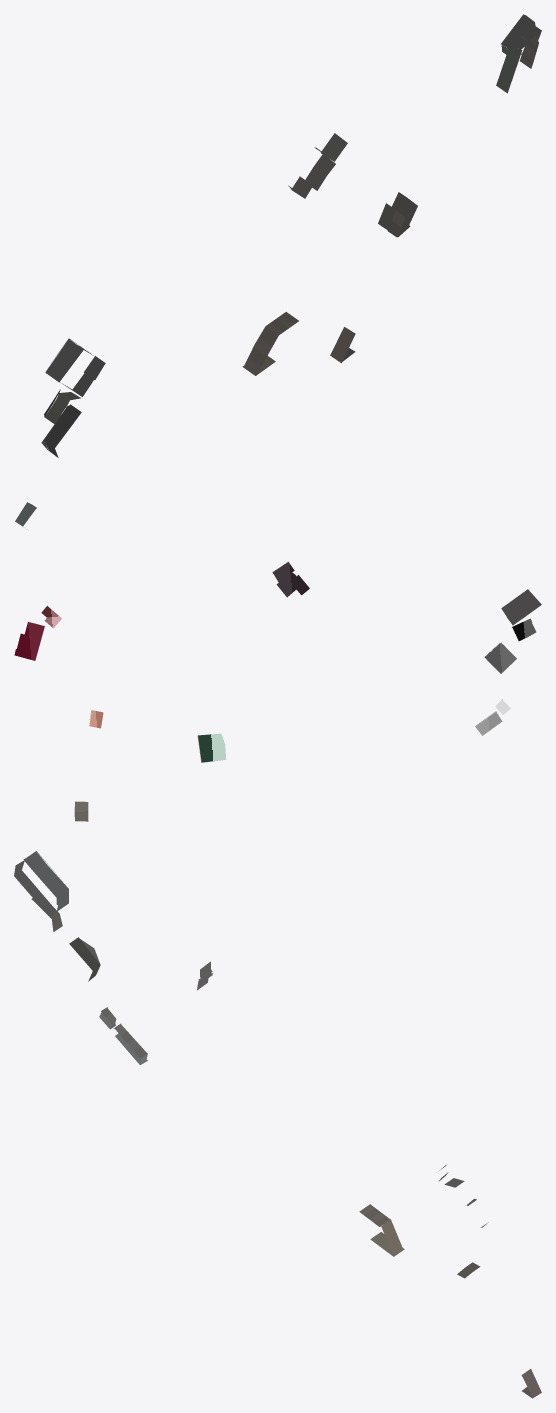
The model's file is tile_LOD2_r2_c0.glb.
3 renders of one model, top to bottom at view 1: azimuth 30°, elevation 25°; view 2: azimuth 150°, elevation 25°; view 3: azimuth 270°, elevation 25°, orthographic. The views are drawn at different scales.
Bounding box in the file's own units: 230 × 122 × 167.
Materials: 37 (22 with a texture image).
